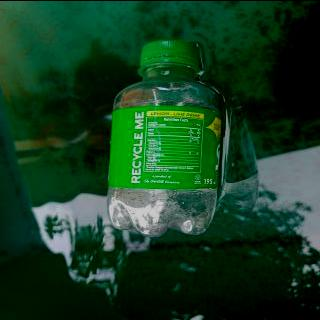bottle: (104, 38, 226, 236)
